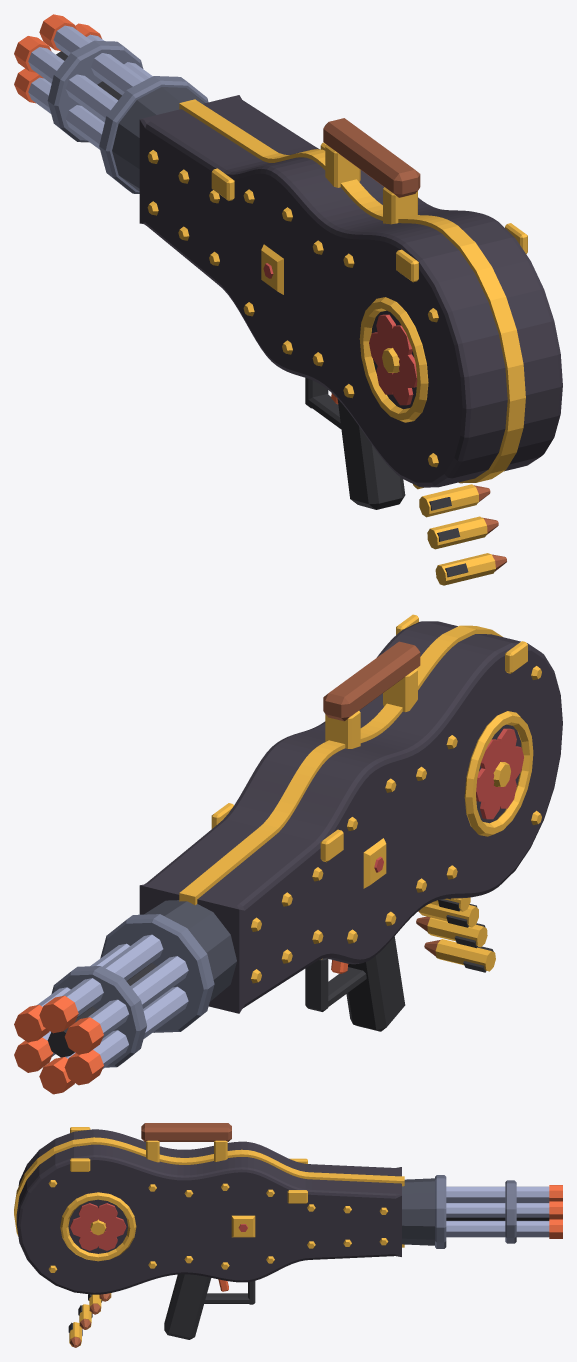
The model's file is blaster-mariachi.glb.
3 views of the same model, one above another, from view 1: azimuth 30°, elevation 25°; view 2: azimuth 150°, elevation 25°; view 3: azimuth 270°, elevation 25° (orthographic). The views are drawn at different scales.
Visible parts, largest first — view 1: blaster-mariachi; view 2: blaster-mariachi; view 3: blaster-mariachi.
Part boxes in pixels (x1,y1,x2,y2): blaster-mariachi: (14,14,562,585); blaster-mariachi: (14,614,562,1094); blaster-mariachi: (14,1123,562,1347).
Size of the model in its own units: 0.176 by 0.5238 by 1.21.
Materials: 1 (1 with a texture image).
